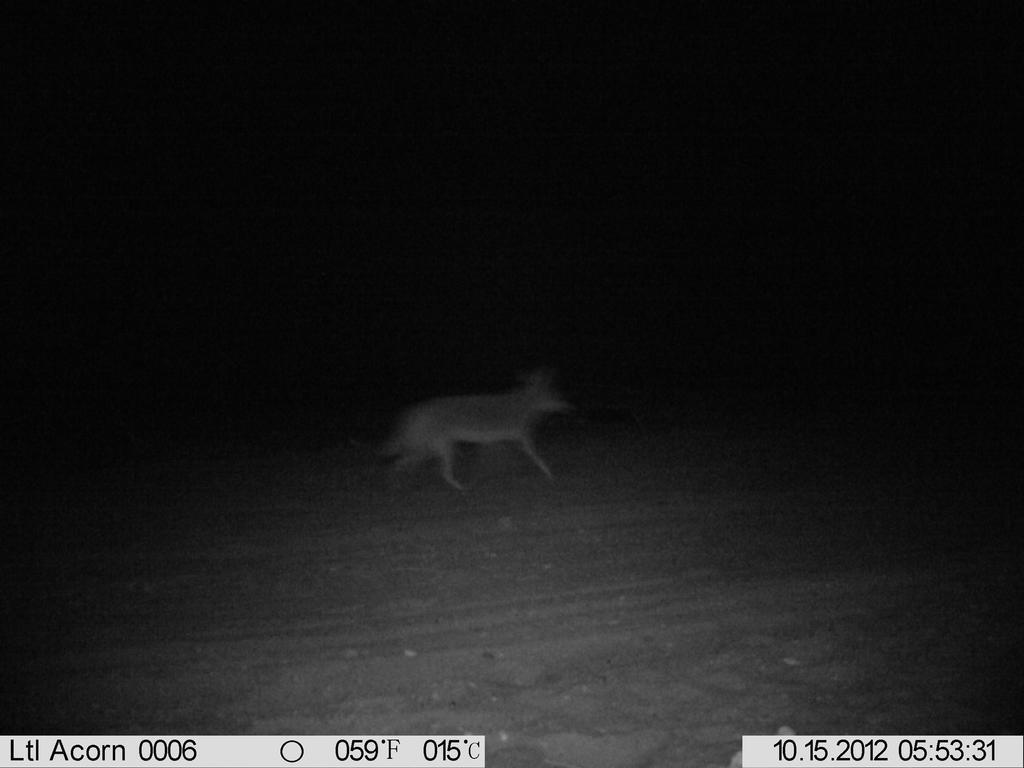coyote: (369, 364, 593, 509)
